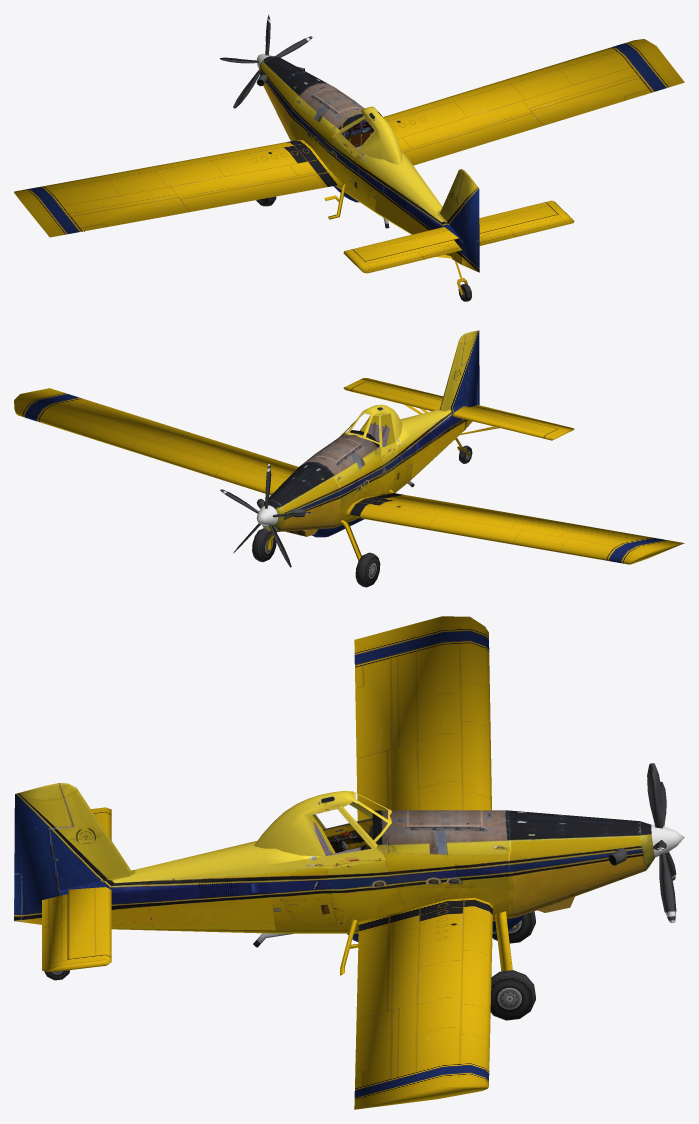
File: Air-Tractor-AT-802-cbj_LOD02.gltf
The picture shows the model from 3 angles, top to bottom: view 1: azimuth 30°, elevation 25°; view 2: azimuth 150°, elevation 25°; view 3: azimuth 270°, elevation 25°; orthographic projection. The views are drawn at different scales.
Visible parts, largest first — view 1: fuselage.002; view 2: fuselage.002; view 3: fuselage.002.
Boxes of the visible parts, bbox=[...] form: fuselage.002: bbox=[14, 14, 684, 301]; fuselage.002: bbox=[14, 330, 684, 587]; fuselage.002: bbox=[14, 616, 684, 1109].
Size of what is drawn, in the model's own units: 18.1 by 3.91 by 10.91.
